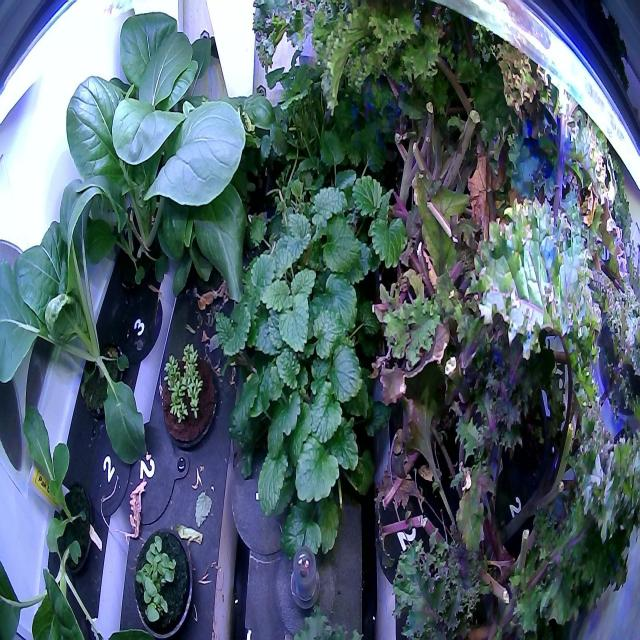germination: (154, 328, 223, 464), (131, 523, 198, 637)
